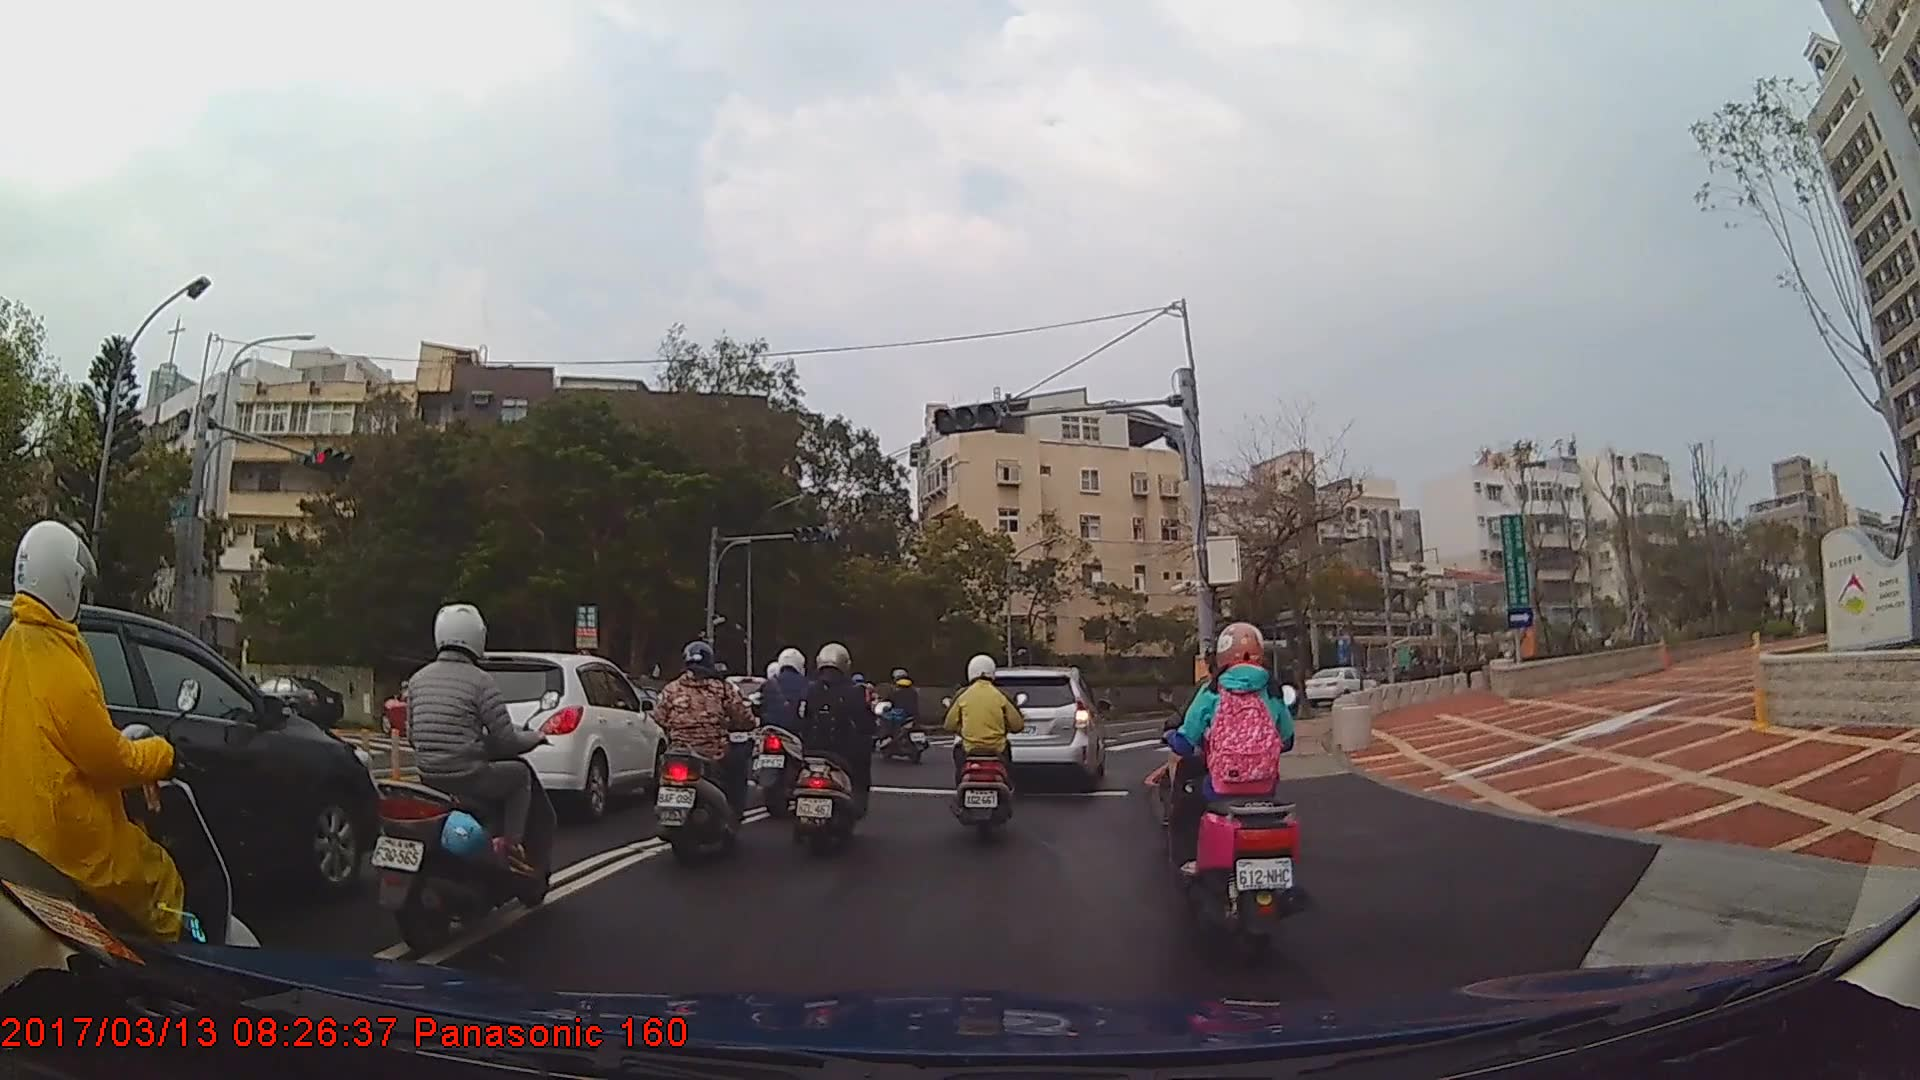rider: (1, 522, 265, 1034), (375, 603, 564, 955), (1166, 622, 1302, 938), (647, 642, 763, 870), (784, 642, 880, 857), (939, 658, 1030, 838), (750, 646, 821, 816), (746, 666, 802, 802), (864, 668, 929, 767)
vehicle: (0, 597, 380, 938), (426, 649, 670, 820), (959, 667, 1106, 794), (239, 676, 343, 732), (1300, 666, 1378, 705)
